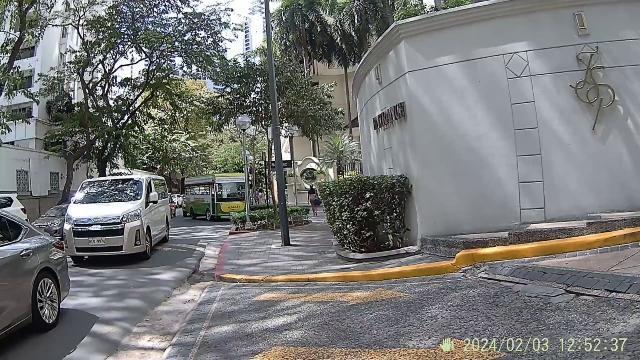lamp_post: (231, 115, 255, 234)
utility_post: (261, 3, 295, 255)
